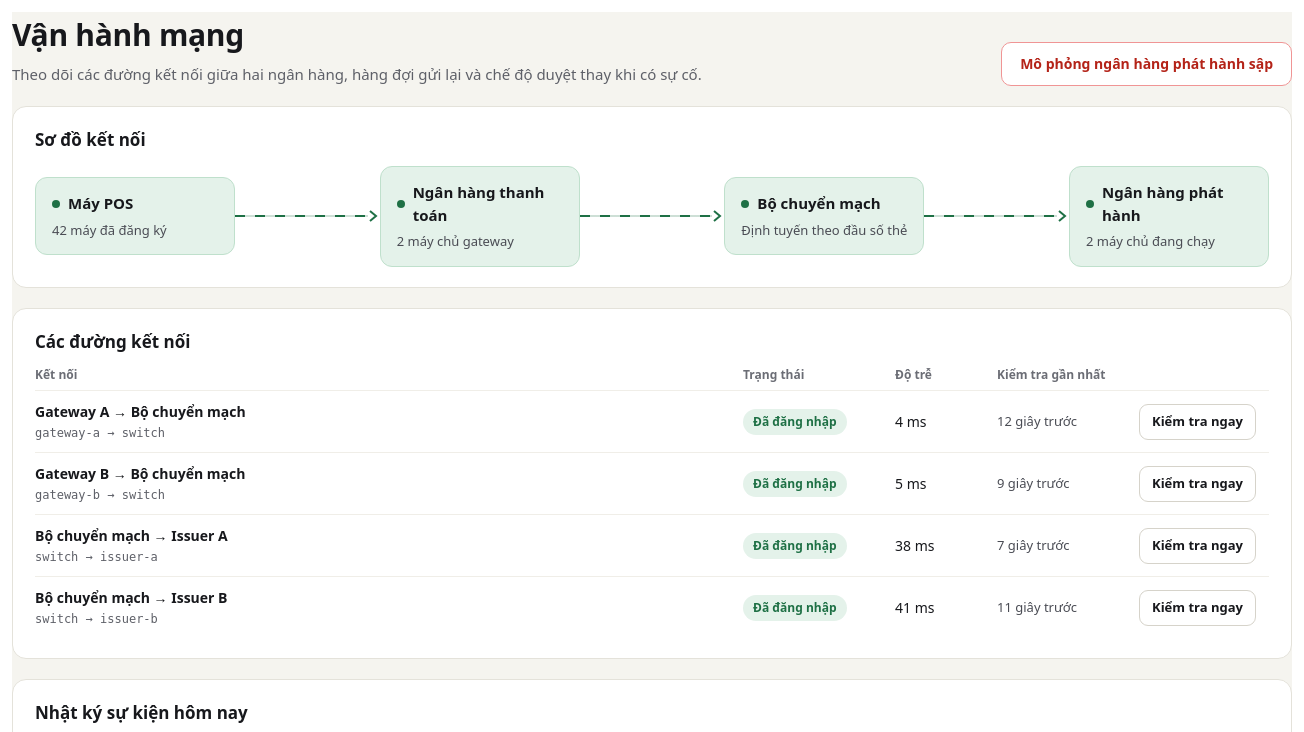
Scenario: NetworkScreen › MCN-205-AC2: each link row shows status, latency and last echo, and Check now echoes it
Expected: the text "Đã đăng nhập" in the row of "Gateway A → Bộ chuyển mạch" is shown, [753, 412, 836, 430]
Expected: the text "4 ms" is shown, [895, 411, 985, 432]
Click the button "Kiểm tra ngay" in the row of "Gateway A → Bộ chuyển mạch" at (1198, 422), box [1139, 404, 1256, 440]
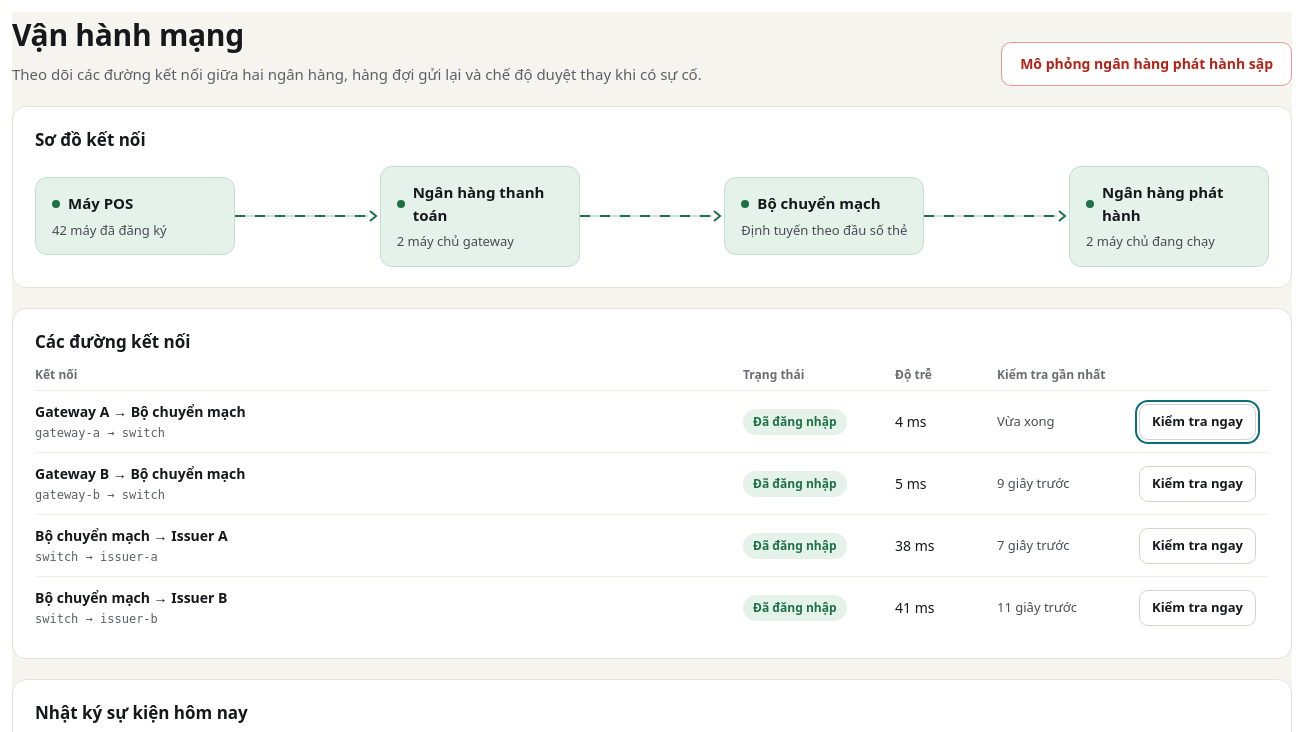
Now the text "Vừa xong" is shown, box [997, 412, 1127, 431]
